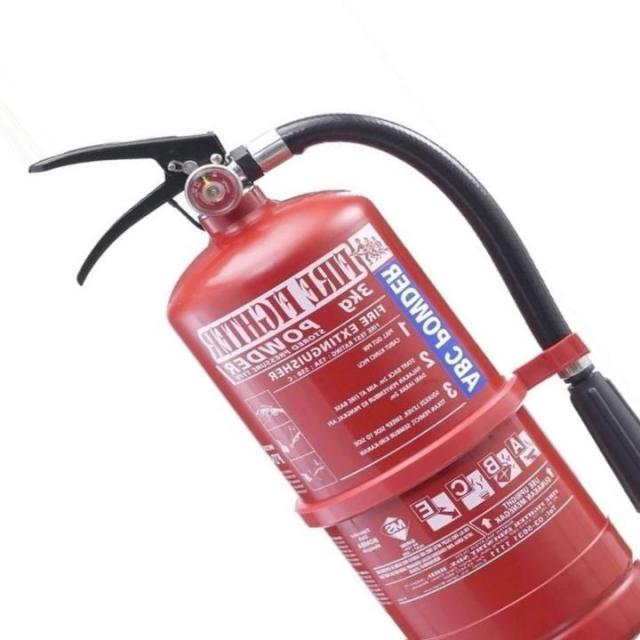fire_extinguisher: (23, 108, 639, 639)
